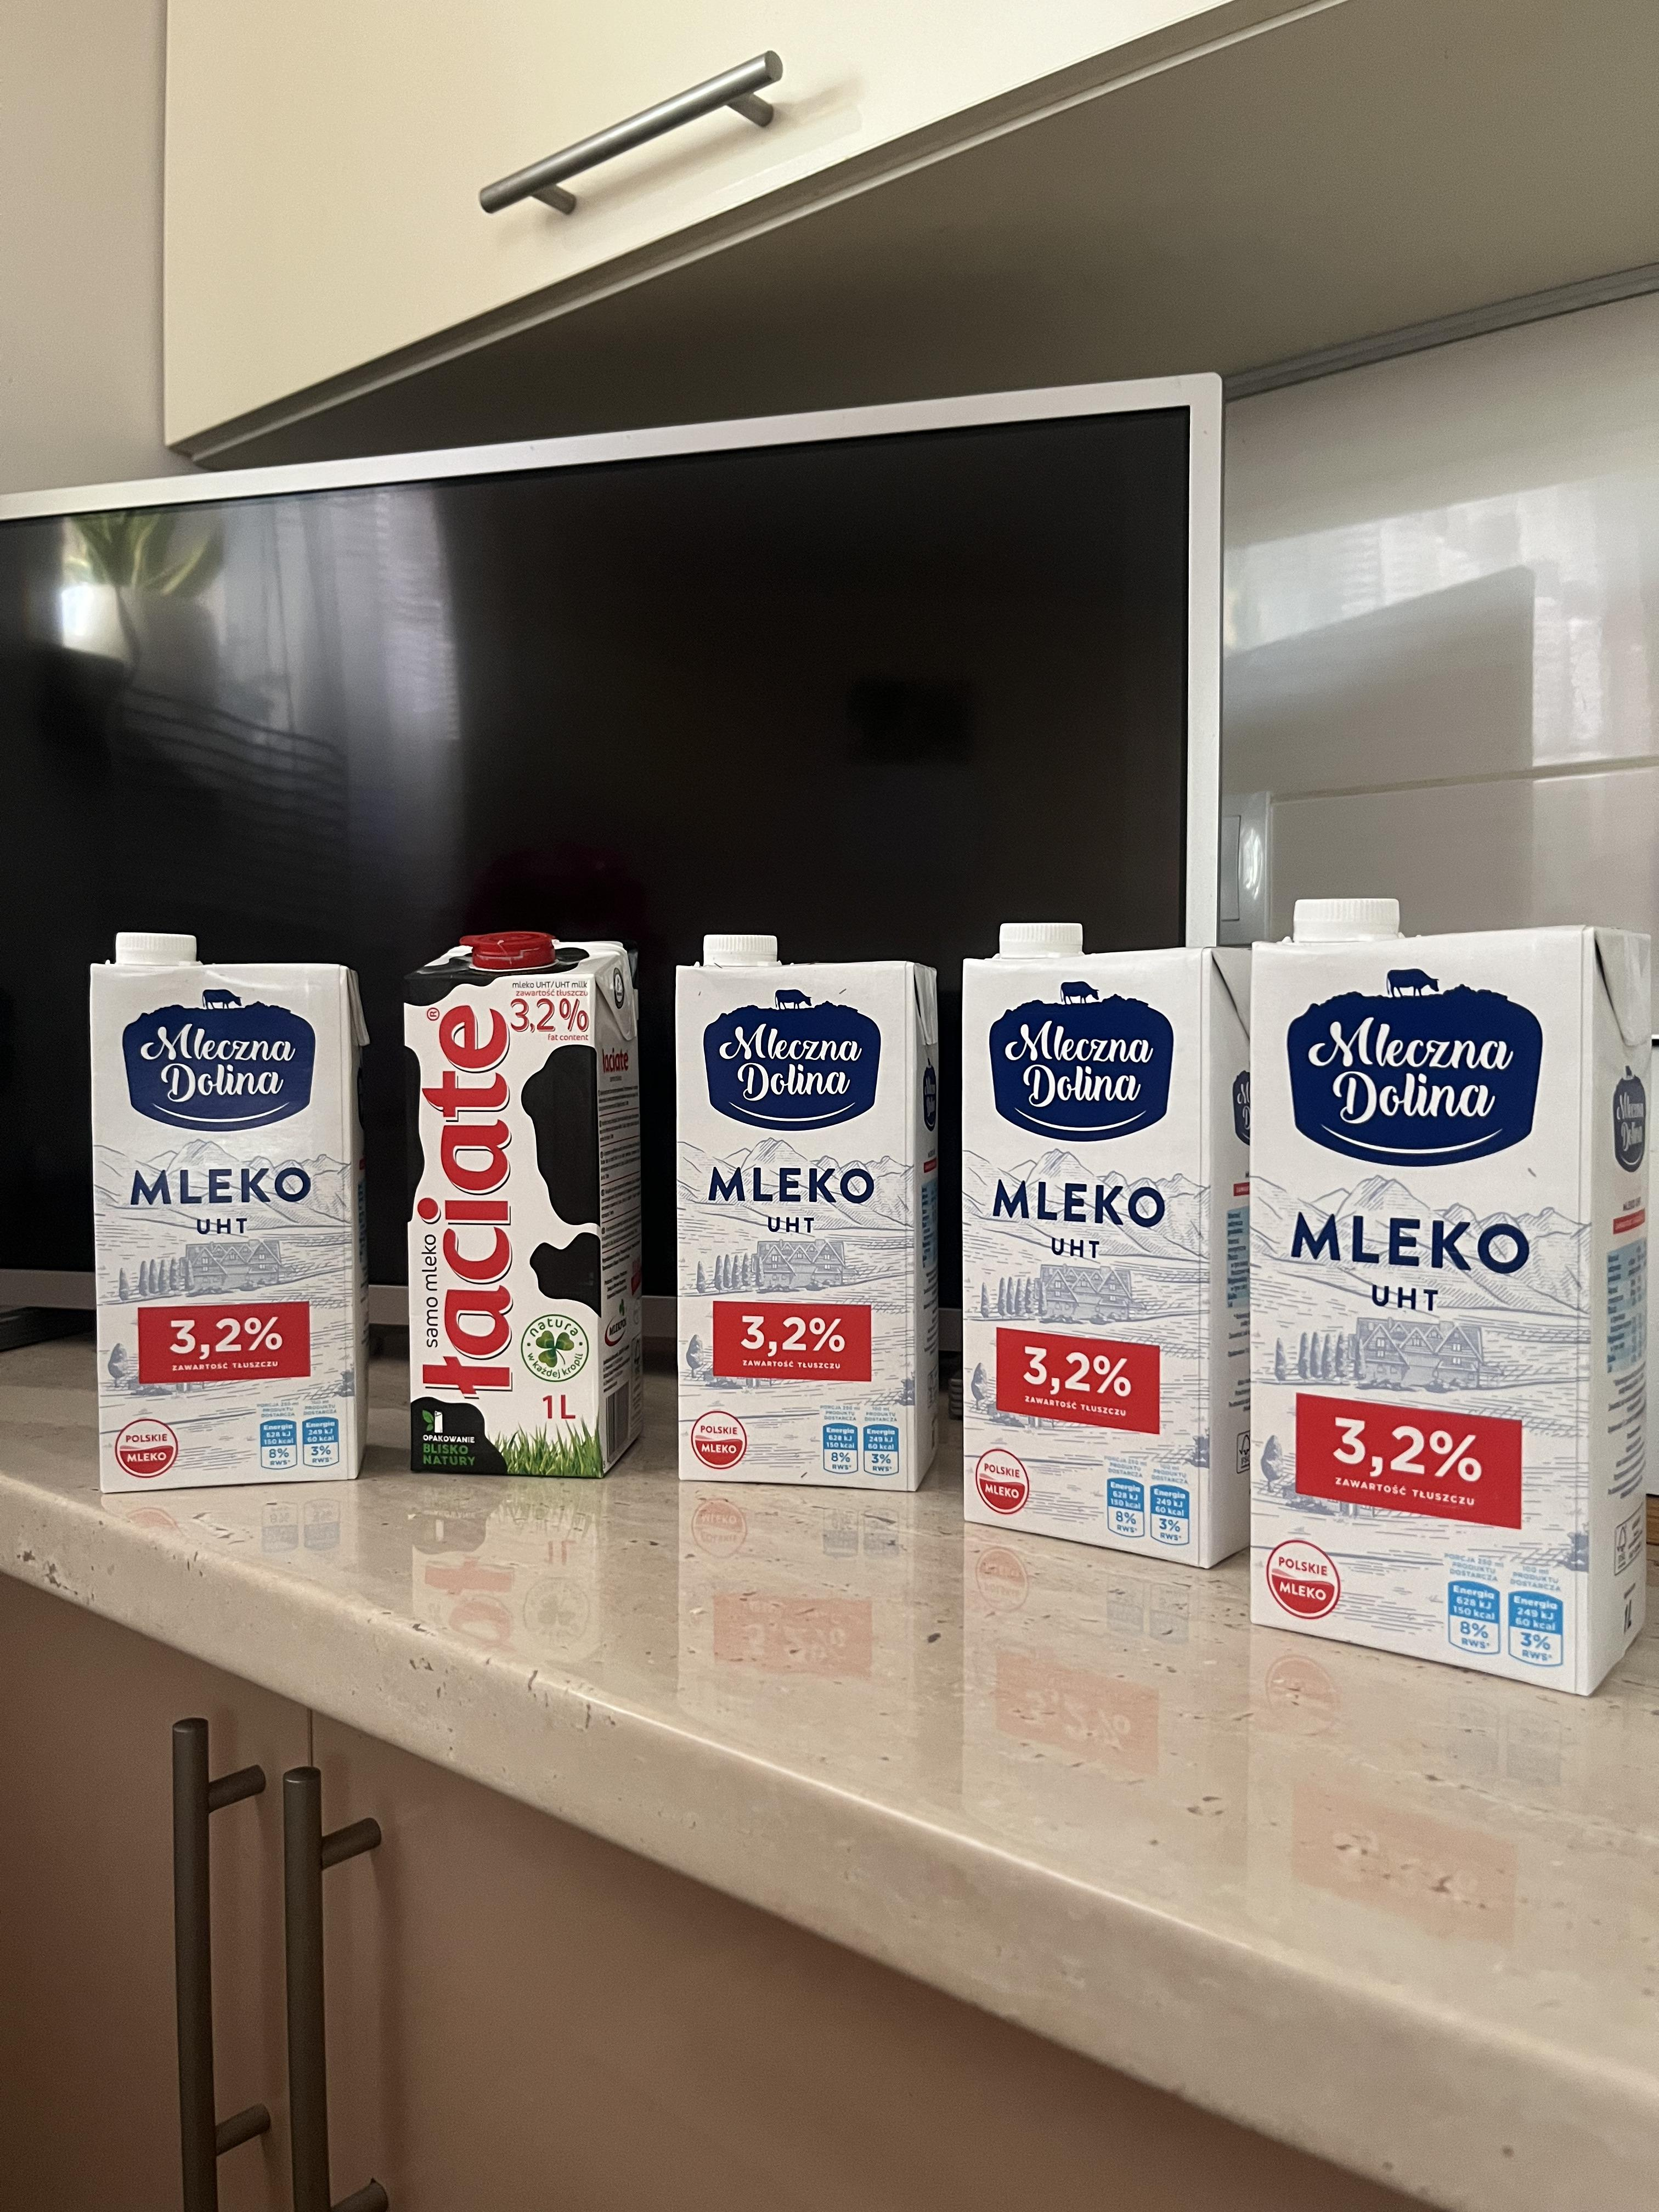Milk: (1249, 900, 1659, 1716), (958, 911, 1251, 1573), (87, 925, 376, 1484), (676, 925, 941, 1503), (404, 927, 647, 1484)
